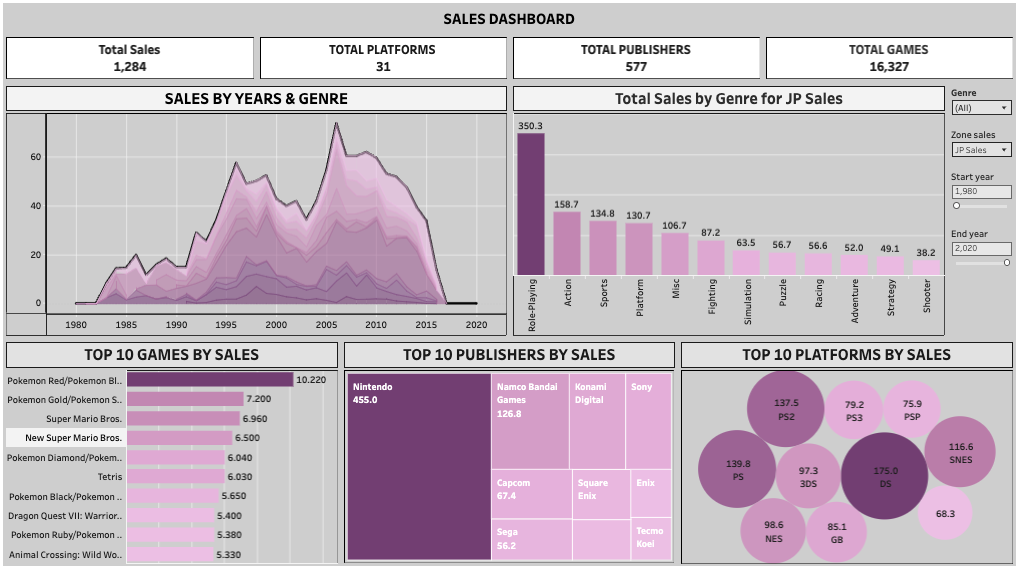

Layout of this report page (visuals, bound fields, positions):
{"tool":"tableau","page":{"name":"Dashboard 1","canvas":[1366,768],"ordinal":0},"visuals":[{"type":"text","box":[8,8,1350,41]},{"type":"worksheet","title":"Total sales","mark":"Automatic","box":[8,49,338,65]},{"type":"worksheet","title":"Total platforms","mark":"Automatic","box":[346,49,338,65]},{"type":"worksheet","title":"Total publishers","mark":"Automatic","box":[684,49,337,65]},{"type":"worksheet","title":"Total games","mark":"Automatic","box":[1021,49,337,65]},{"type":"worksheet","title":"Sales by years and genre","mark":"Automatic","rows":["Calculation_1863645822196957184","Calculation_1863645822196957184"],"cols":["Year"],"box":[8,114,676,342]},{"type":"worksheet","title":"Total sales by genre","mark":"Automatic","rows":["Calculation_1863645822196957184"],"cols":["Genre"],"box":[684,114,584,342]},{"type":"filter","title":"Sales by years and genre","param":"[federated.0whaoz31saqohm1eey3kr1mjlx3k].[none:Genre:nk]","box":[1268,114,90,57]},{"type":"parameter","param":"[Parameters].[Parameter 1]","box":[1268,171,90,52]},{"type":"parameter","param":"[Parameters].[Parameter 2]","box":[1268,223,90,75]},{"type":"parameter","param":"[Parameters].[Parameter 3]","box":[1268,298,90,75]},{"type":"worksheet","title":"Top 10 names by sales","mark":"Automatic","rows":["Name"],"cols":["Calculation_1863645822196957184"],"box":[8,456,450,304]},{"type":"worksheet","title":"Top 10 publishers by sales","mark":"Automatic","box":[458,456,450,304]},{"type":"worksheet","title":"Top 10 platforms by sales","mark":"Circle","box":[908,456,450,304]}]}

Visuals, with their boxes in screenshot pixels (x1, y1, x2, y2), scaled from the page's 1366x768 canvas onto the 1020x566 screenshot:
text: Rect(6, 6, 1014, 36)
"Total sales" worksheet: Rect(6, 36, 258, 84)
"Total platforms" worksheet: Rect(258, 36, 511, 84)
"Total publishers" worksheet: Rect(511, 36, 762, 84)
"Total games" worksheet: Rect(762, 36, 1014, 84)
"Sales by years and genre" worksheet: Rect(6, 84, 511, 336)
"Total sales by genre" worksheet: Rect(511, 84, 947, 336)
"Sales by years and genre" filter: Rect(947, 84, 1014, 126)
parameter: Rect(947, 126, 1014, 164)
parameter: Rect(947, 164, 1014, 220)
parameter: Rect(947, 220, 1014, 275)
"Top 10 names by sales" worksheet: Rect(6, 336, 342, 560)
"Top 10 publishers by sales" worksheet: Rect(342, 336, 678, 560)
"Top 10 platforms by sales" worksheet (Circle marks): Rect(678, 336, 1014, 560)
